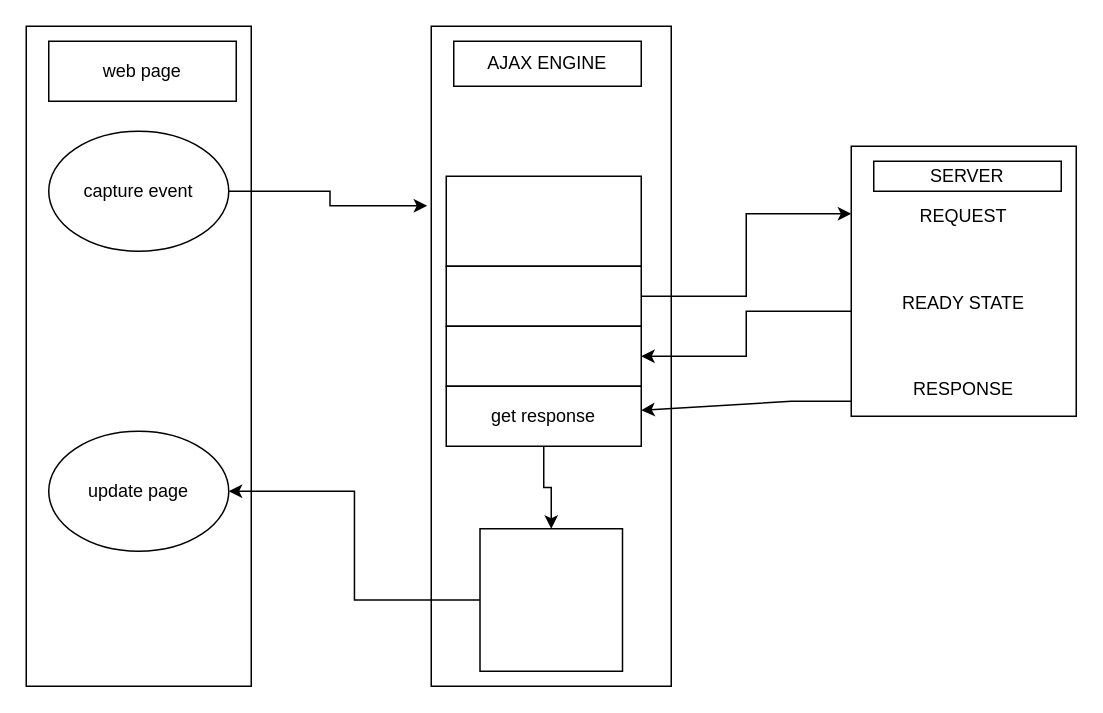
Some shapes in this 1103 by 713 pixel diagram are drawn without their labels. The shapes that lost their labels are listed below. From the top down, each one's box as (x1, y1, x2, y2) in pixels, then its label:
(445, 175, 641, 266): create server request
(445, 265, 641, 326): send
(445, 325, 641, 386): monitor
(478, 527, 622, 671): process returned data
